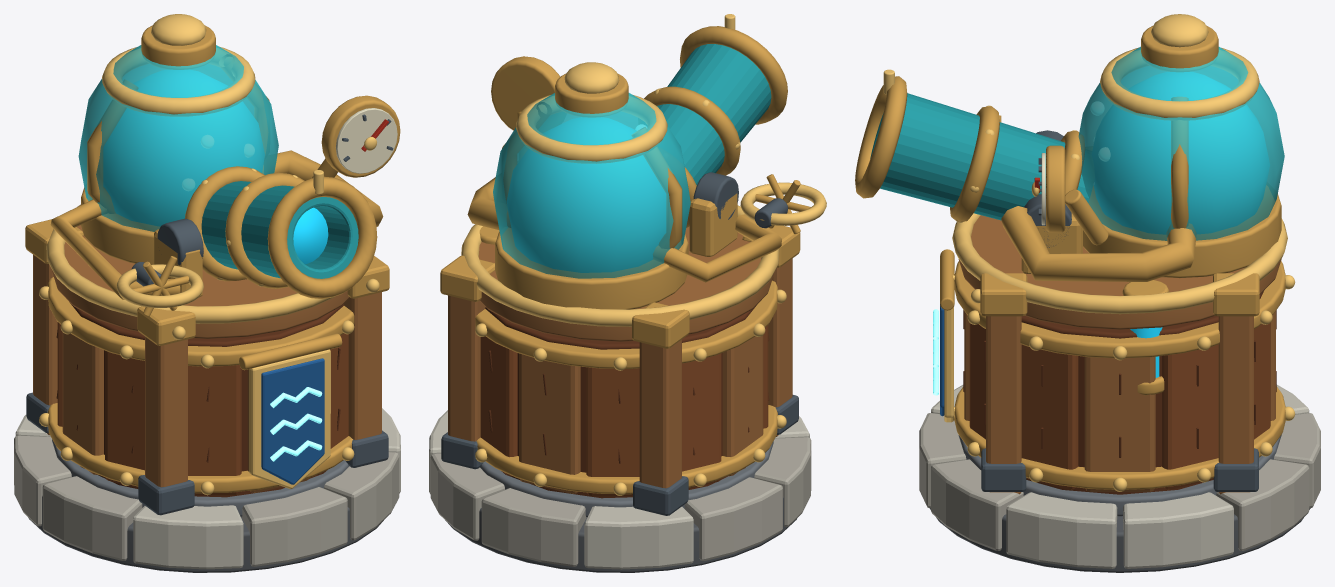
File: water-cannon.glb
3 renders of one model, left to right at view 1: azimuth 30°, elevation 25°; view 2: azimuth 150°, elevation 25°; view 3: azimuth 270°, elevation 25°, orthographic. The views are drawn at different scales.
Visible parts, largest first — view 1: Runtime surface 08, Runtime surface 06, Runtime surface 13, Runtime surface 03, Runtime surface 09, Runtime surface 14, Runtime surface 07, Runtime surface 20, Runtime surface 19, Runtime surface 02, Runtime surface 11, Runtime surface 10 (+8 smaller); view 2: Runtime surface 08, Runtime surface 06, Runtime surface 13, Runtime surface 03, Runtime surface 14, Runtime surface 09, Runtime surface 07, Runtime surface 19, Runtime surface 02, Runtime surface 20, Runtime surface 10, Runtime surface 05 (+4 smaller); view 3: Runtime surface 08, Runtime surface 13, Runtime surface 06, Runtime surface 14, Runtime surface 07, Runtime surface 09, Runtime surface 02, Runtime surface 03, Runtime surface 19, Runtime surface 20, Runtime surface 05, Runtime surface 10 (+5 smaller).
Boxes of the visible parts, x1=… form: Runtime surface 08: x1=25, y1=25, x2=400, y2=493; Runtime surface 06: x1=33, y1=225, x2=381, y2=492; Runtime surface 13: x1=78, y1=45, x2=278, y2=231; Runtime surface 03: x1=14, y1=435, x2=399, y2=566; Runtime surface 09: x1=39, y1=14, x2=379, y2=495; Runtime surface 14: x1=103, y1=70, x2=264, y2=225; Runtime surface 07: x1=57, y1=322, x2=348, y2=495; Runtime surface 20: x1=185, y1=166, x2=377, y2=298; Runtime surface 19: x1=201, y1=181, x2=358, y2=278; Runtime surface 02: x1=15, y1=408, x2=400, y2=569; Runtime surface 11: x1=261, y1=358, x2=324, y2=484; Runtime surface 10: x1=26, y1=114, x2=393, y2=515; Runtime surface 08: x1=440, y1=56, x2=810, y2=494; Runtime surface 06: x1=448, y1=226, x2=792, y2=493; Runtime surface 13: x1=493, y1=93, x2=690, y2=278; Runtime surface 03: x1=430, y1=437, x2=811, y2=566; Runtime surface 14: x1=507, y1=117, x2=665, y2=272; Runtime surface 09: x1=461, y1=62, x2=826, y2=495; Runtime surface 07: x1=480, y1=325, x2=768, y2=496; Runtime surface 19: x1=657, y1=44, x2=771, y2=185; Runtime surface 02: x1=429, y1=410, x2=809, y2=569; Runtime surface 20: x1=644, y1=26, x2=787, y2=227; Runtime surface 10: x1=441, y1=198, x2=798, y2=515; Runtime surface 05: x1=485, y1=305, x2=769, y2=498; Runtime surface 08: x1=940, y1=25, x2=1285, y2=489; Runtime surface 13: x1=1078, y1=46, x2=1284, y2=240; Runtime surface 06: x1=958, y1=215, x2=1281, y2=494; Runtime surface 14: x1=1092, y1=72, x2=1269, y2=377; Runtime surface 07: x1=969, y1=323, x2=1270, y2=489; Runtime surface 09: x1=944, y1=14, x2=1295, y2=491; Runtime surface 02: x1=931, y1=384, x2=1309, y2=568; Runtime surface 03: x1=919, y1=413, x2=1320, y2=550; Runtime surface 19: x1=870, y1=93, x2=1094, y2=220; Runtime surface 20: x1=855, y1=76, x2=1084, y2=221; Runtime surface 05: x1=963, y1=291, x2=1276, y2=494; Runtime surface 10: x1=981, y1=158, x2=1258, y2=491.
Bounding box in the file's own units: 3.99 × 5.17 × 4.62.
